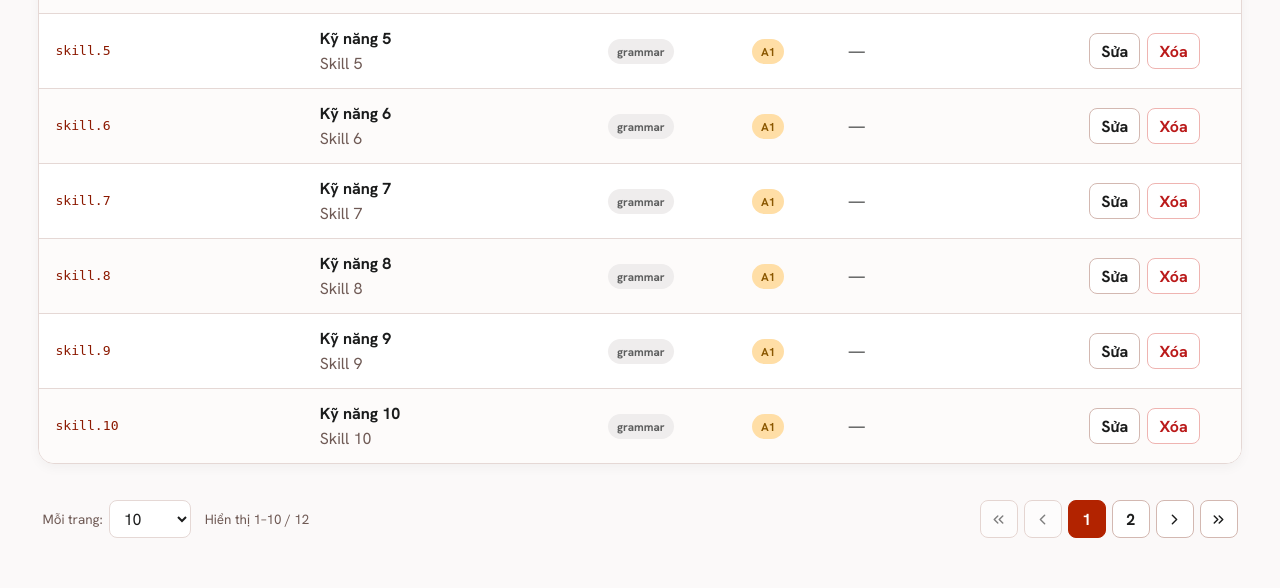
it: Client table pagination › slice đúng, đổi page size và reset trang khi search/filter
(page scrolled)
Expected: the text "Kỹ năng 11" is not shown
Click the button named "Trang 2" at (1131, 519), box [1112, 500, 1150, 538]
(page scrolled)
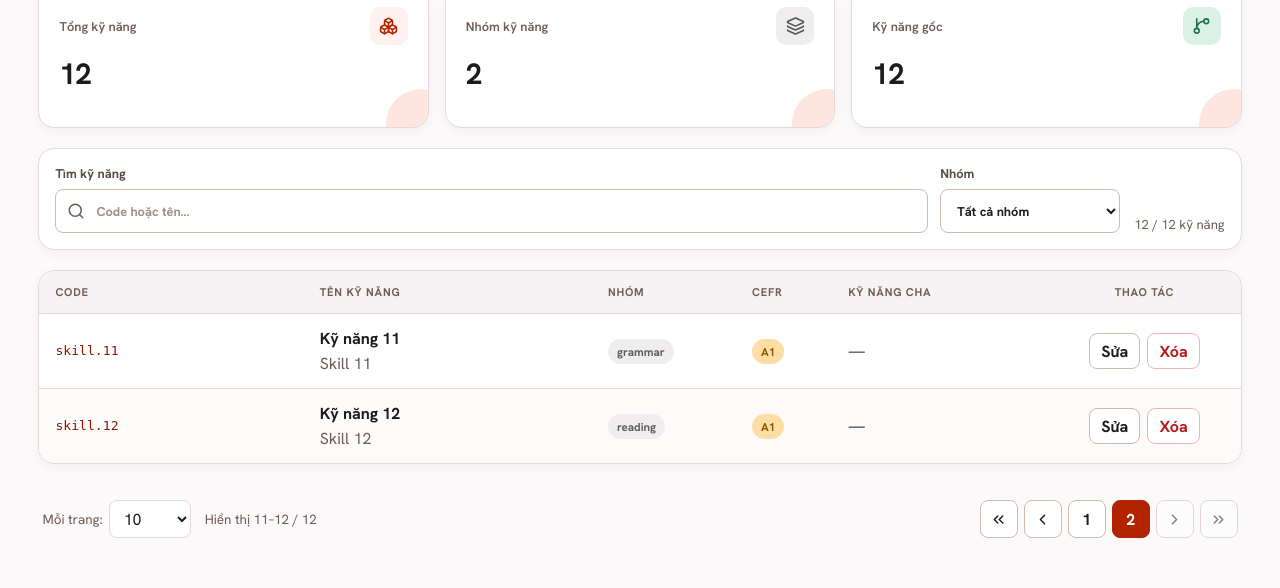
Result: the text "Kỹ năng 11" is shown at [320, 328, 400, 349]
Type "skill.1" into the search field labelled "Tìm kỹ năng" at (492, 211), box [55, 189, 928, 233]
(page scrolled)
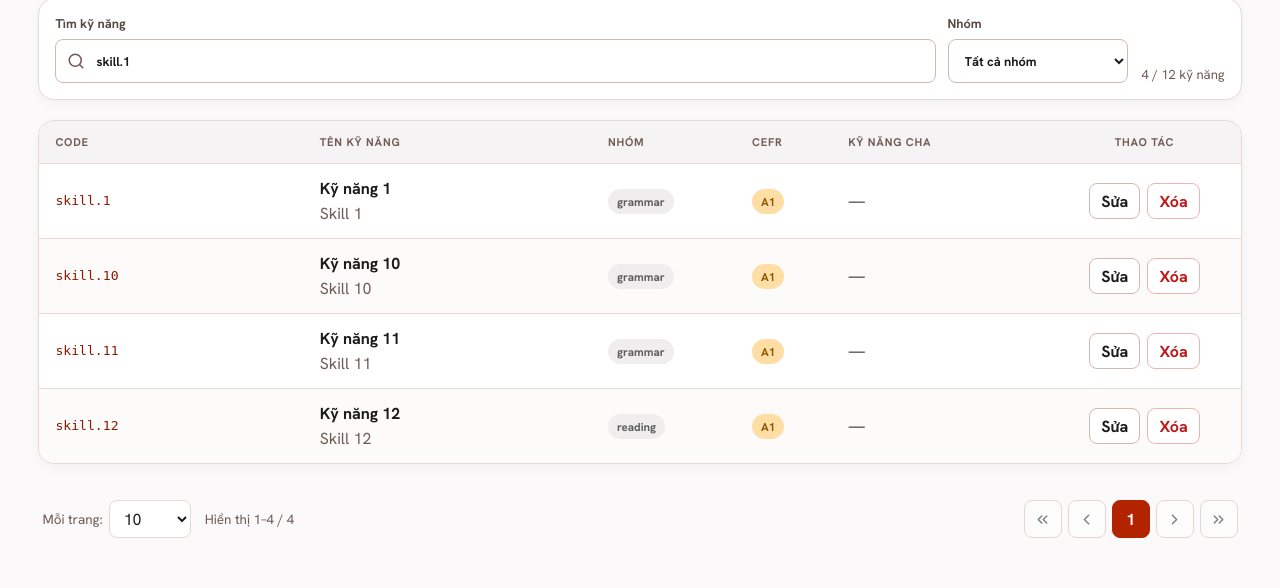
Result: the text "Kỹ năng 1" is shown at [320, 178, 391, 199]
Clear the search field labelled "Tìm kỹ năng" at (495, 61), box [55, 39, 936, 83]
(page scrolled)
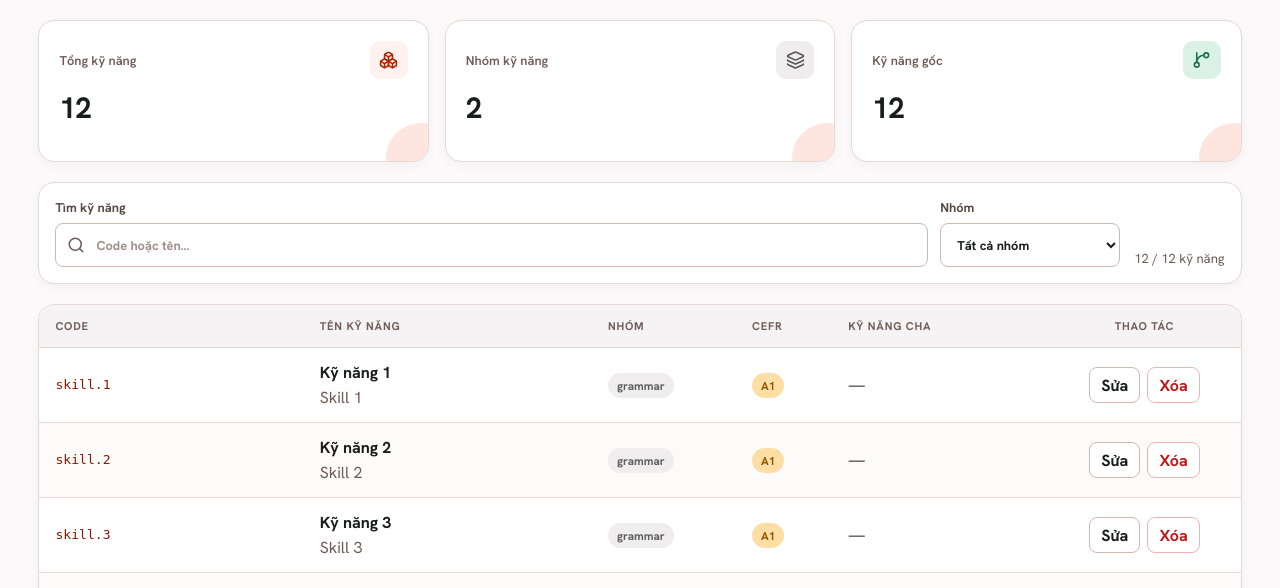
Select "reading" in the dropdown labelled "Nhóm" at (1030, 245), box [940, 223, 1120, 267]
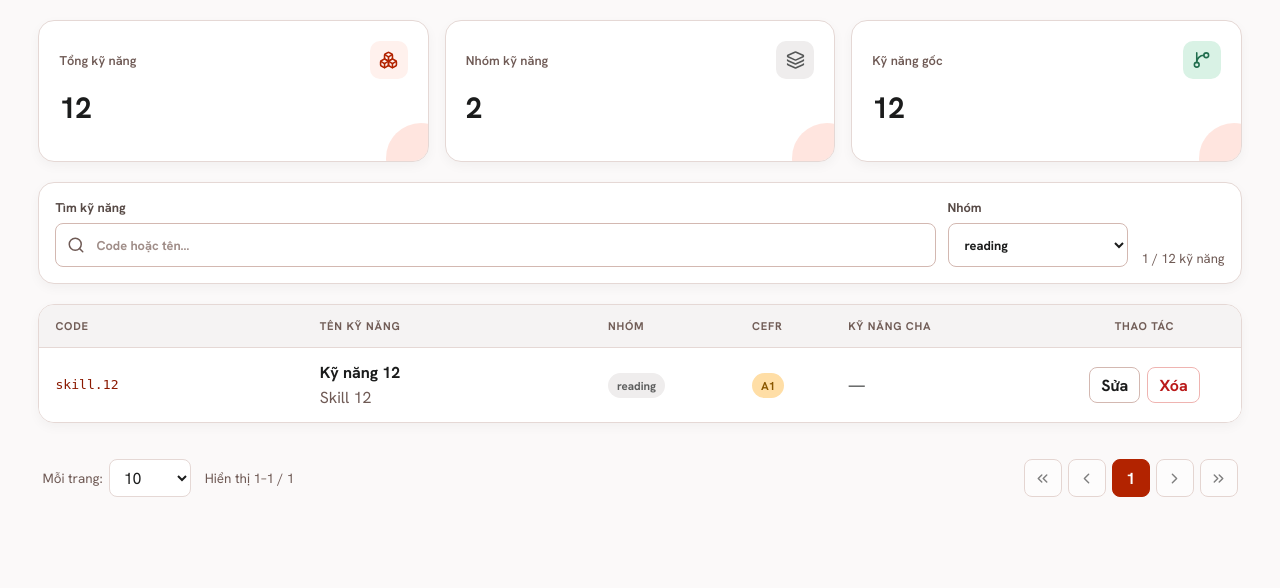
Result: the text "Kỹ năng 12" is shown at [320, 362, 400, 383]
Select "Tất cả nhóm" in the dropdown labelled "Nhóm" at (1038, 245), box [948, 223, 1128, 267]
(page scrolled)
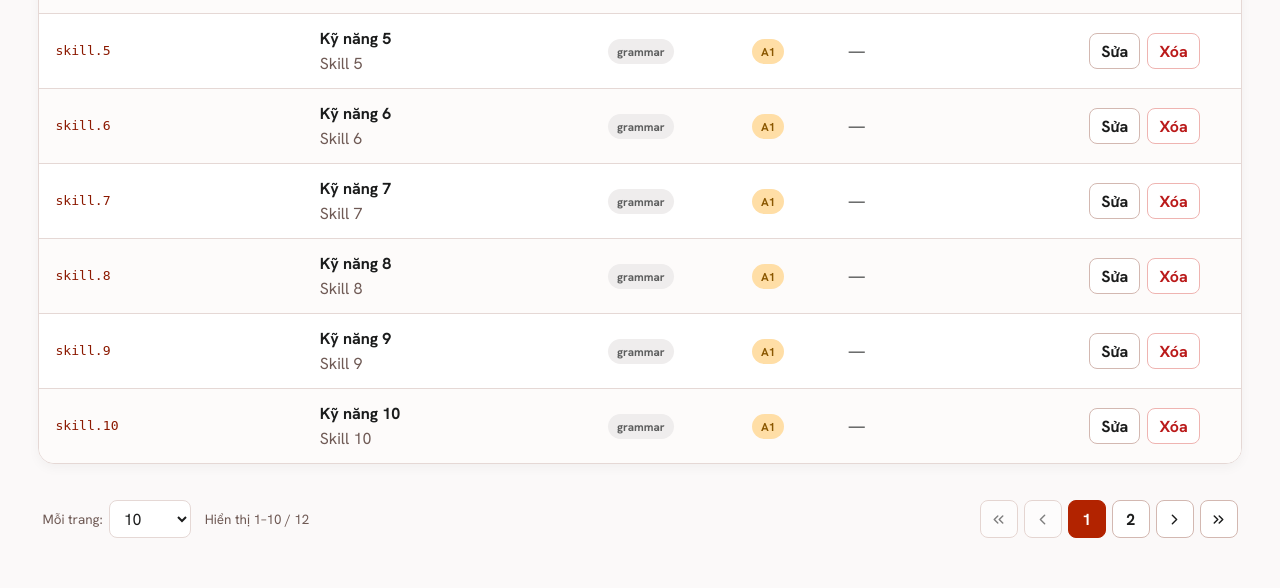
Select "20" in the dropdown named "Số dòng mỗi trang" at (150, 519), box [109, 500, 191, 538]
(page scrolled)
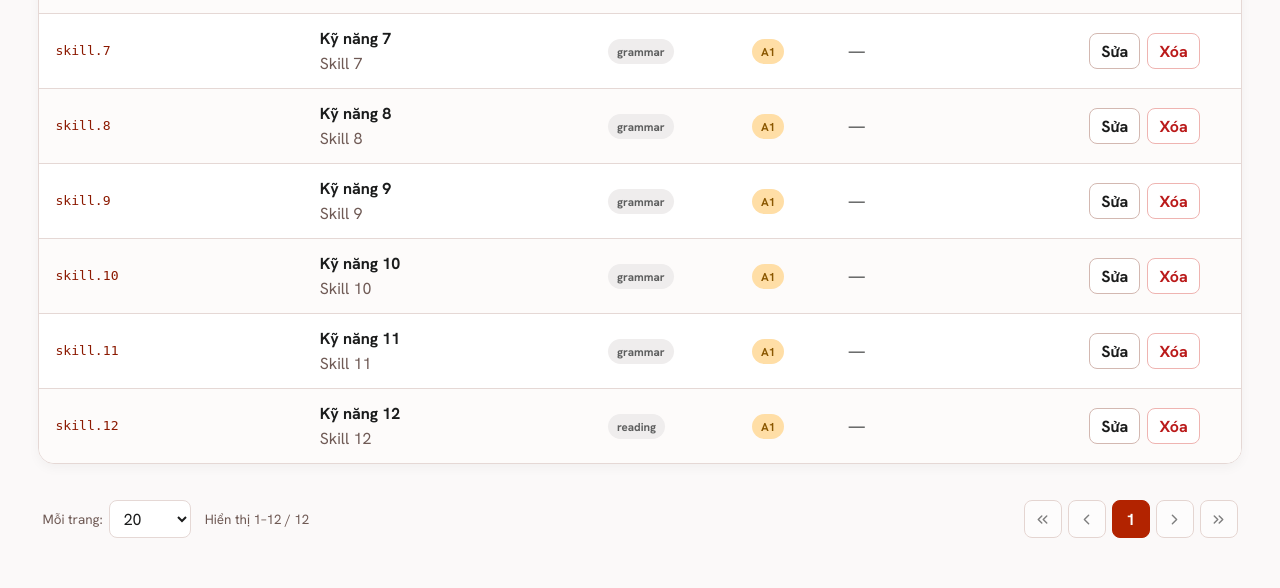
Result: the text "Kỹ năng 12" is shown at [320, 403, 400, 424]
Result: the text "Hiển thị 1–12 / 12" is shown at [205, 511, 309, 528]
